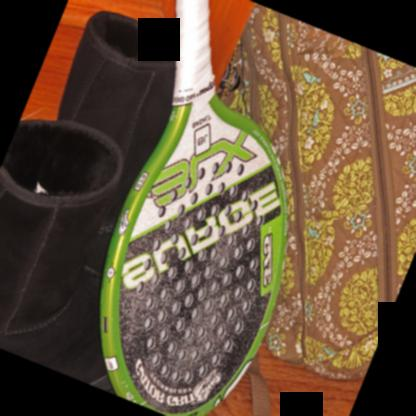handbag: (214, 4, 416, 416)
